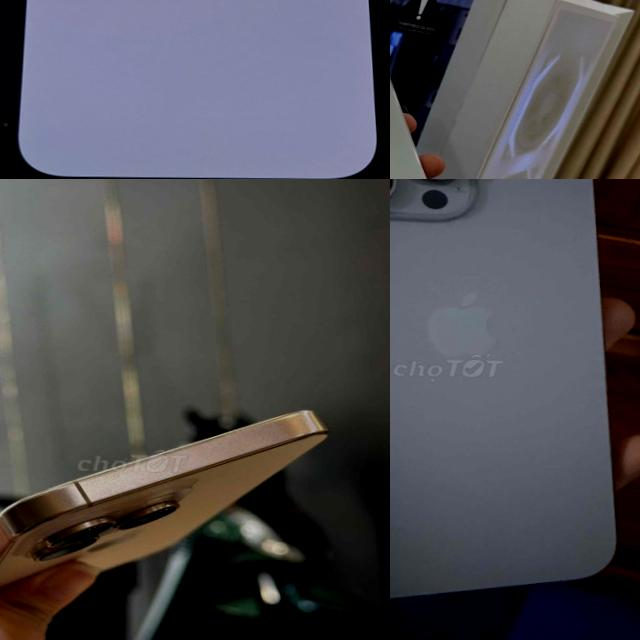gen_14: (0, 0, 390, 179)
gen_15: (390, 179, 628, 627)
gen_16: (0, 411, 326, 587)
gen_x_xs: (390, 4, 456, 179)
